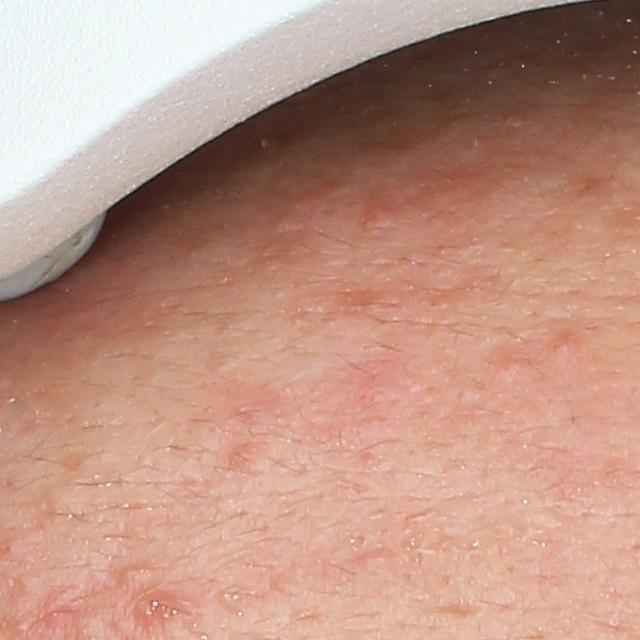papule: (126, 588, 196, 629), (360, 198, 401, 231)
